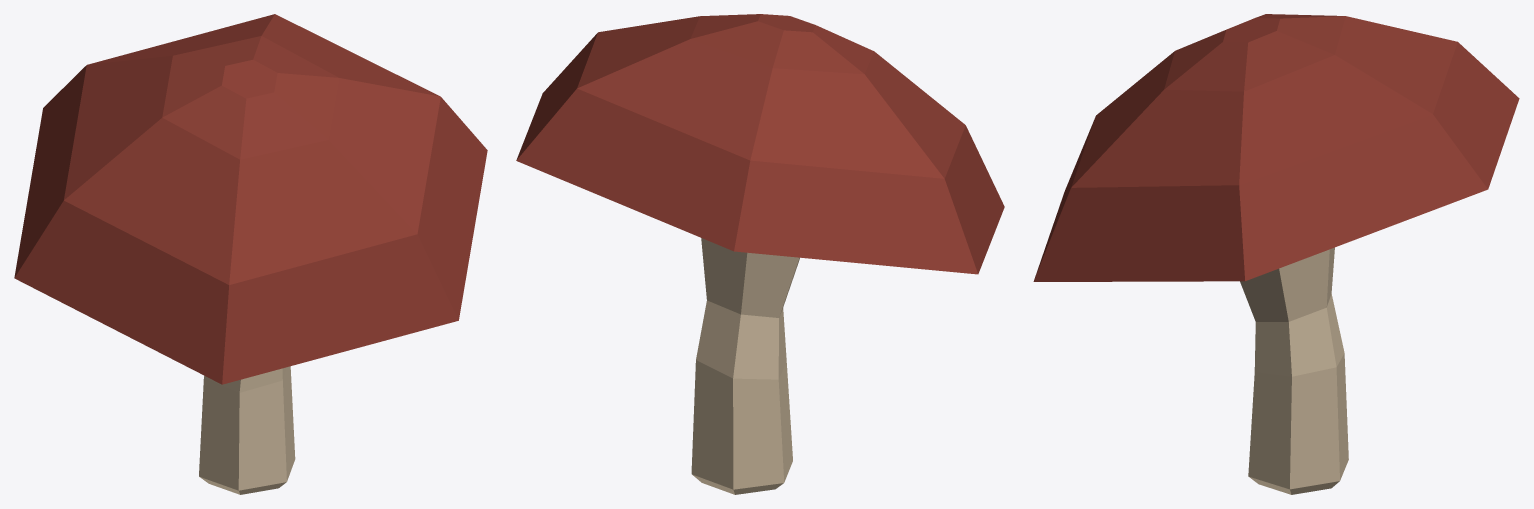
The model's file is bog_mushroom_big.gltf.
3 views of the same model, side by side, from view 1: azimuth 30°, elevation 25°; view 2: azimuth 150°, elevation 25°; view 3: azimuth 270°, elevation 25° (orthographic). The views are drawn at different scales.
Visible parts, largest first — view 1: bog_mushroom_big; view 2: bog_mushroom_big; view 3: bog_mushroom_big.
Part boxes in pixels (x1,y1,x2,y2): bog_mushroom_big: (14, 14, 487, 494); bog_mushroom_big: (516, 14, 1004, 494); bog_mushroom_big: (1033, 14, 1519, 494).
Bounding box in the file's own units: 1.95 × 1.82 × 1.78.
Materials: 1 (1 with a texture image).
